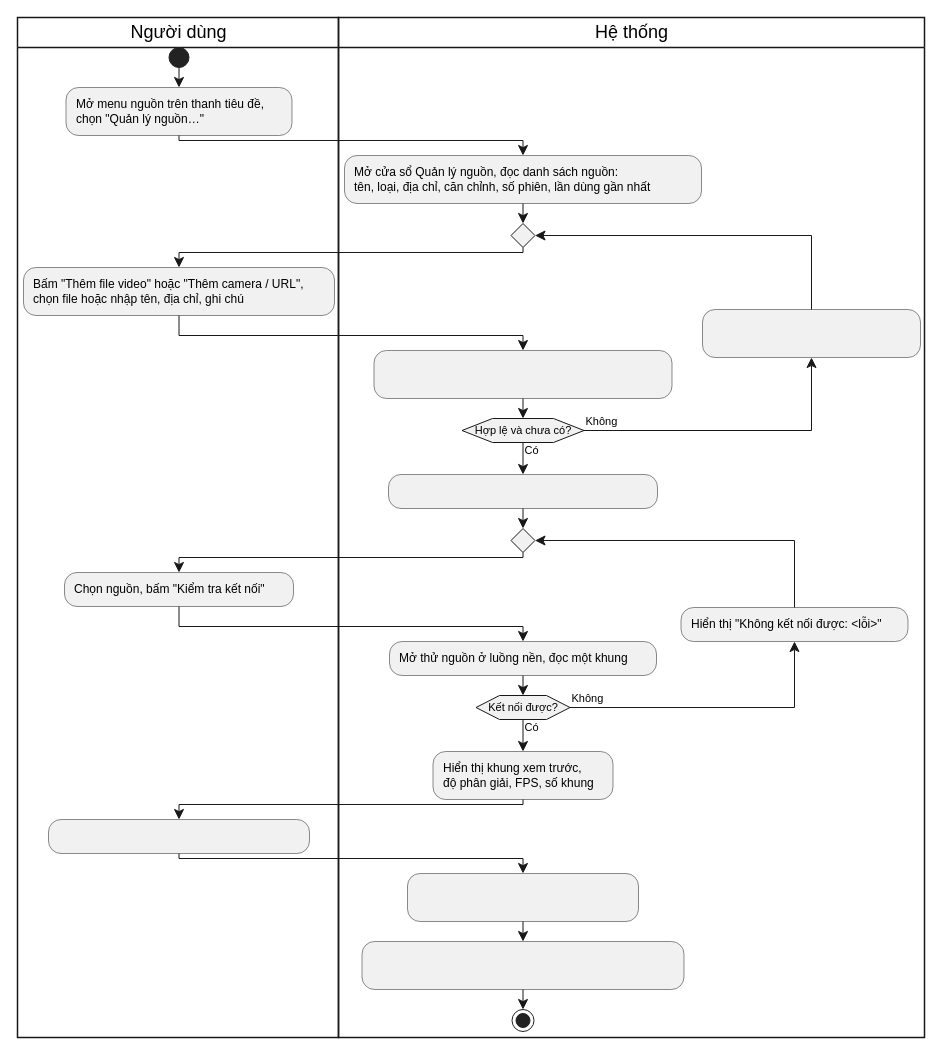
Some shapes in this 943 by 1056 pixel diagram are drawn without their labels. The box of each missing label's shape, as (x1, y1, x2, y2) in pixels:
Báo lỗi: chưa nhập địa chỉ / không tìm thấy file / nguồn đã có: (702, 309, 920, 357)
Bấm "Mở nguồn đã chọn" (hoặc nhấp đúp): (48, 819, 309, 853)
Dừng phiên đang chạy (nếu có), đặt nguồn mới làm nguồn hiện hành: (407, 873, 638, 921)
Phân loại nguồn (video / camera / luồng / ảnh), chuẩn hóa địa chỉ: (373, 350, 672, 398)
Thêm nguồn vào CSDL, làm mới danh sách: (388, 474, 657, 508)
Đăng ký nguồn, nạp căn chỉnh mới nhất của nguồn, bắt đầu giám sát (UC04): (361, 941, 684, 989)
